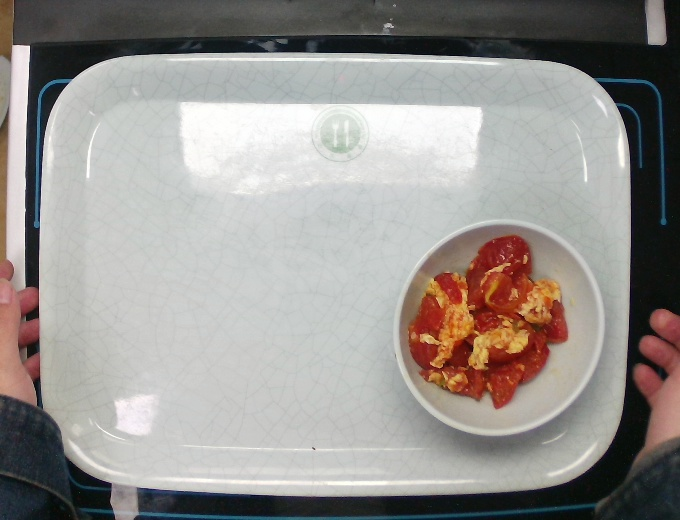JYsf-Fan_Wan: (390, 218, 606, 438)
